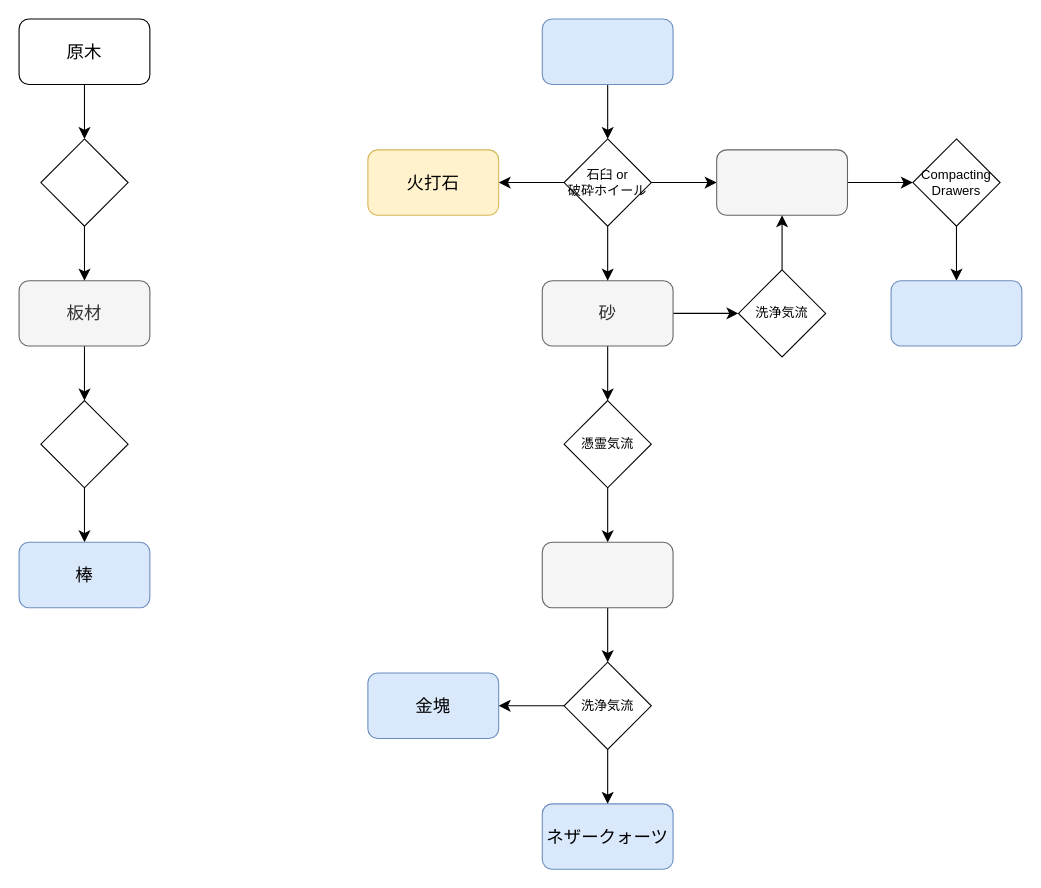
Image size: 1041x888. Some labels were removed from this diagram. The centre of each missing label's shape, as x and y in pixels:
クラフター: point 84,443
ソウルサンド: point 607,574
メカニカル ソー: point 84,182
砂利: point 607,51
粘土(ブロック): point 956,313
粘土玉: point 781,182
